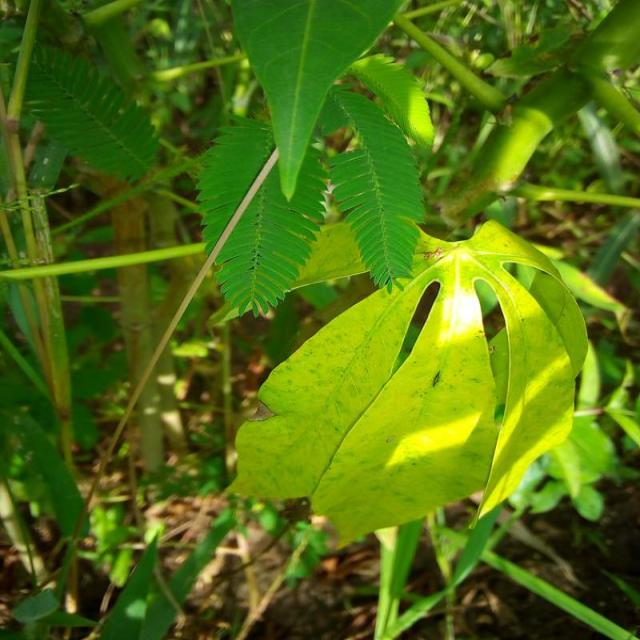cassava leaf: (223, 217, 588, 550), (228, 0, 406, 201)
